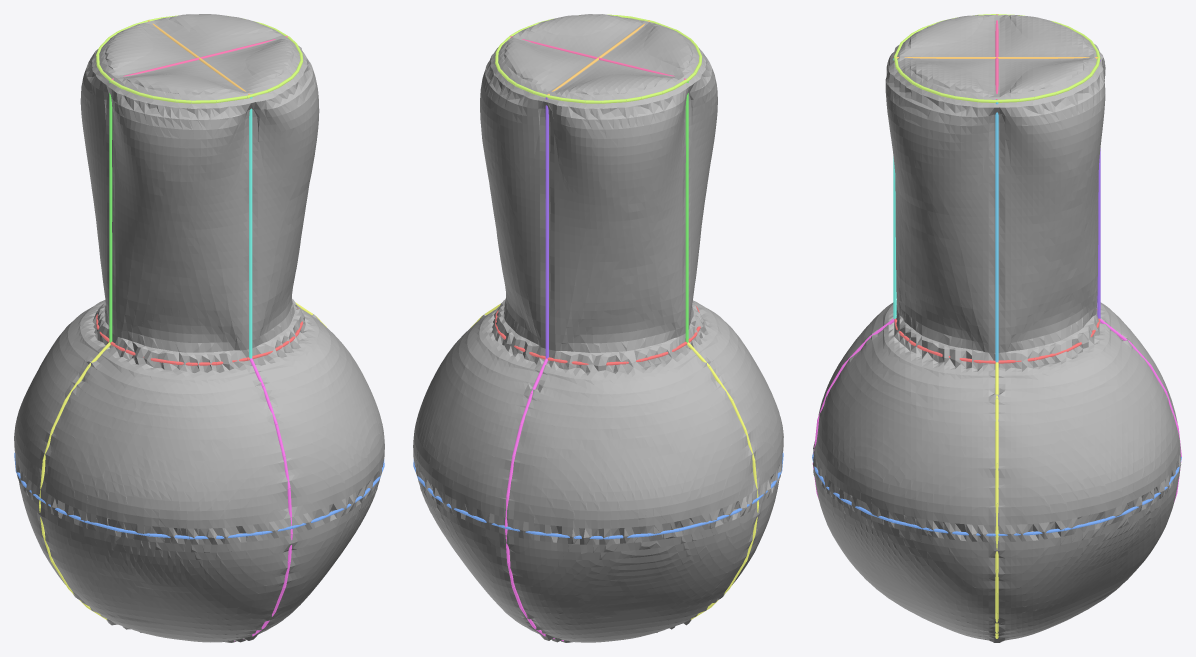
Rendered from flowrep_spherecylinder.gltf.
The picture shows the model from 3 angles, left to right: view 1: azimuth 30°, elevation 25°; view 2: azimuth 150°, elevation 25°; view 3: azimuth 270°, elevation 25°; orthographic projection.
Size of the model in its own units: 0.4564 by 0.7823 by 0.4564.
